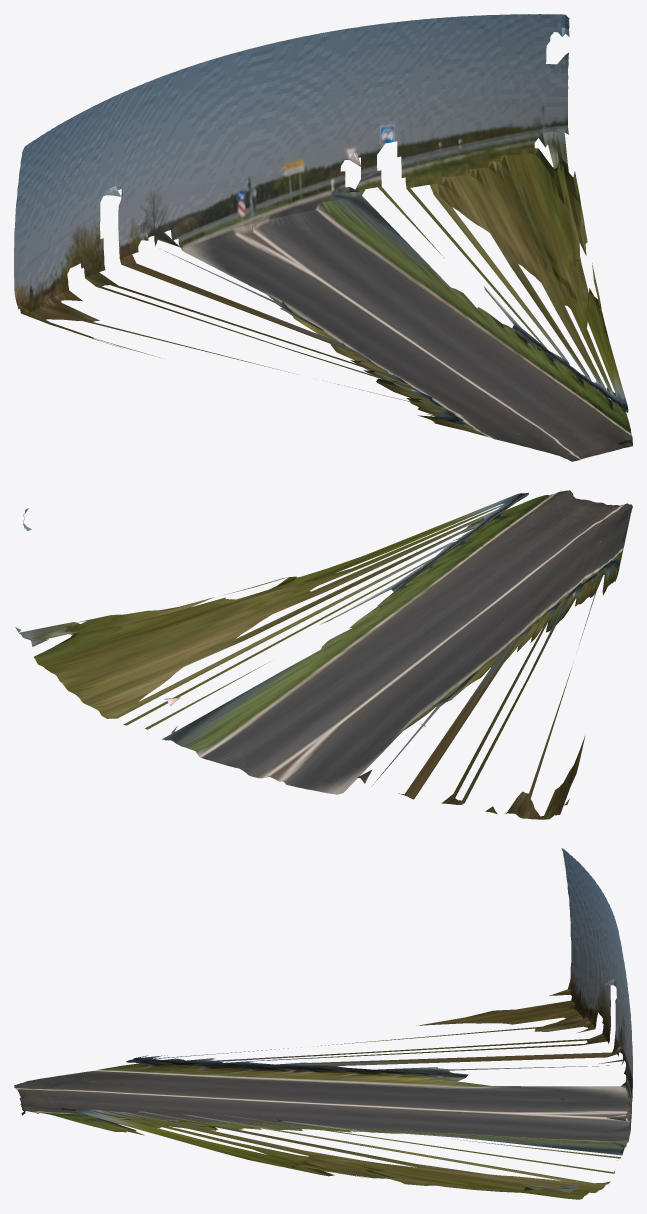
3 views of the same model, one above another, from view 1: azimuth 30°, elevation 25°; view 2: azimuth 150°, elevation 25°; view 3: azimuth 270°, elevation 25° (orthographic). The views are drawn at different scales.
Parts seen in each view (by area): view 1: defaultobject; view 2: defaultobject; view 3: defaultobject.
Part boxes in pixels (left/top/right/bottom): defaultobject: left=14, top=14, right=632, bottom=461; defaultobject: left=15, top=490, right=632, bottom=819; defaultobject: left=14, top=848, right=632, bottom=1199.
Bounding box in the file's own units: 41.16 × 13.55 × 44.76.
Materials: 1 (1 with a texture image).
